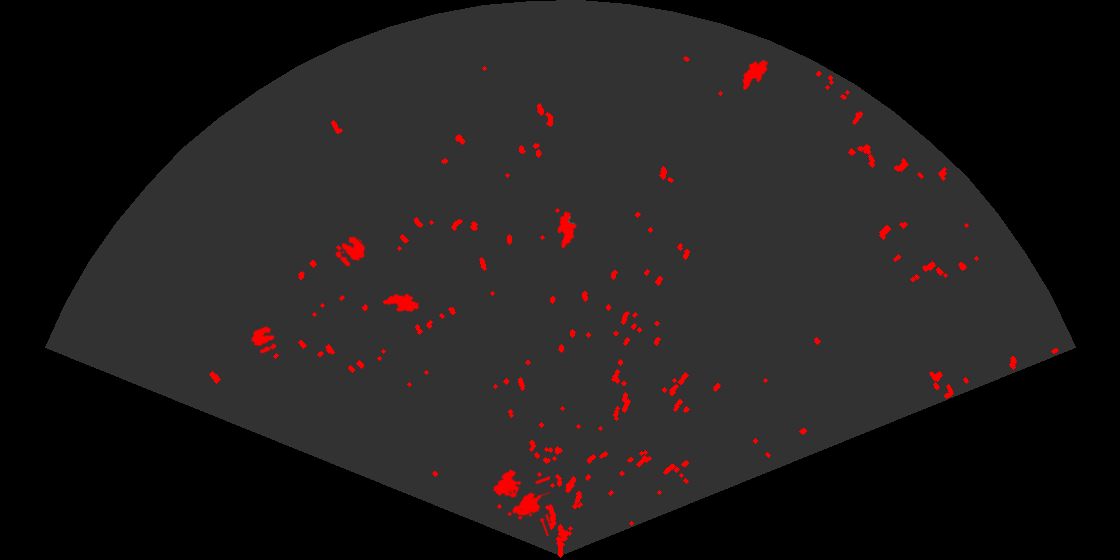AUV: (741, 58, 770, 92), (556, 209, 579, 250), (381, 292, 421, 314)
ball: (334, 235, 367, 268), (250, 325, 278, 355)
cage: (492, 468, 550, 536)
